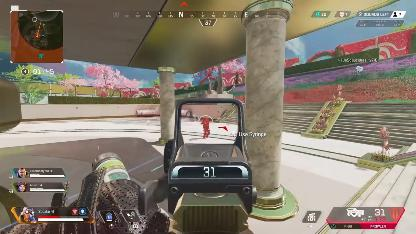Target: (199, 116, 211, 138)
